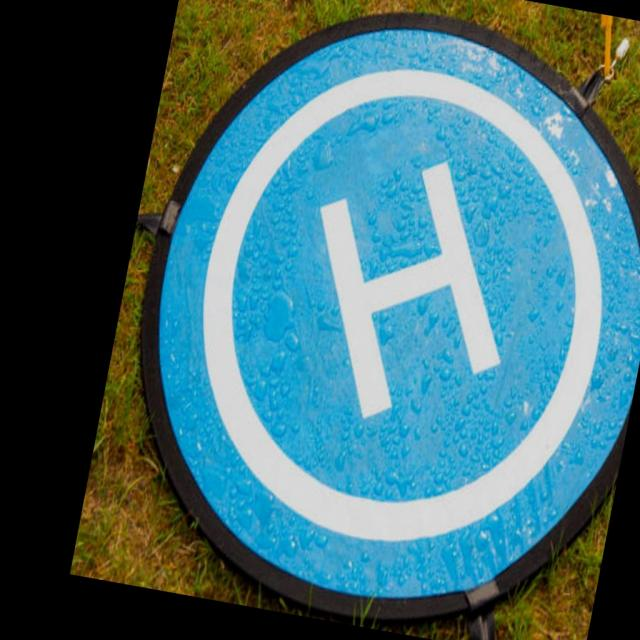helipad: (195, 61, 609, 550)
